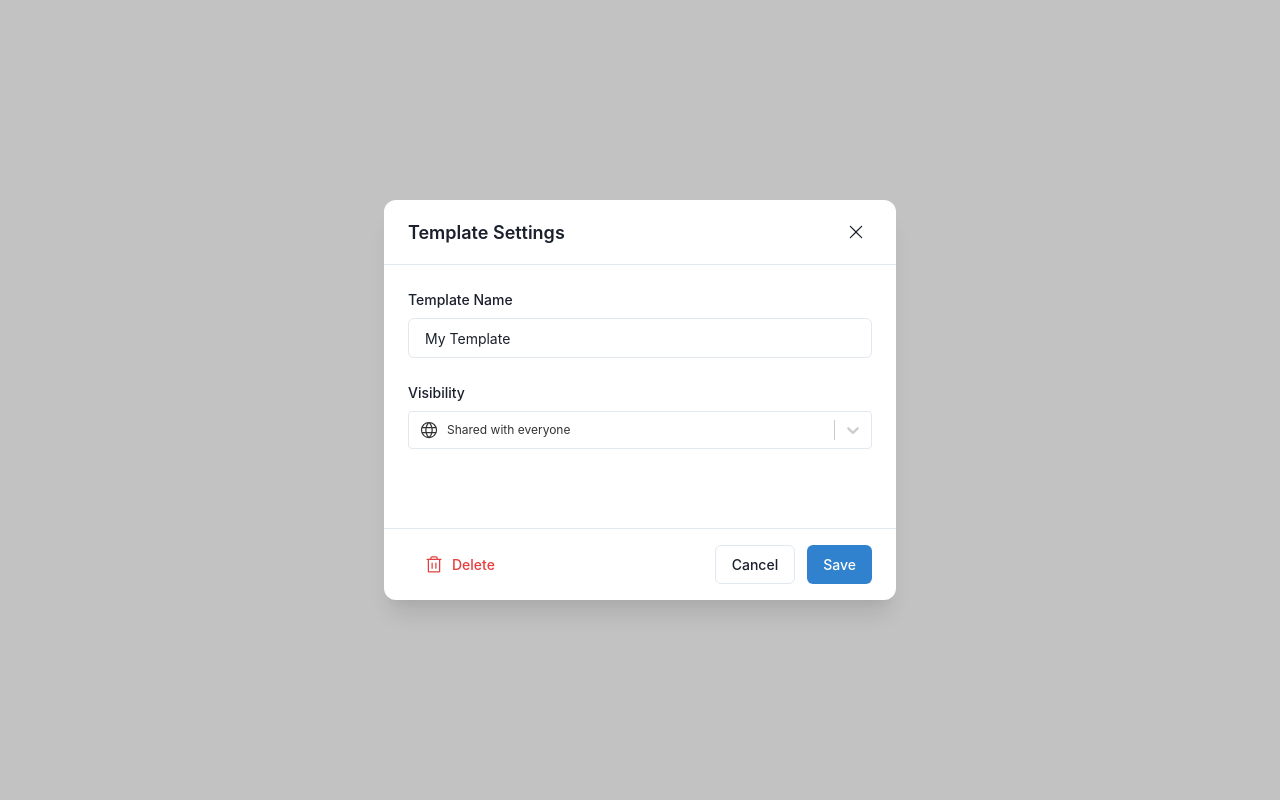
Test: SettingsModal › delete confirmation flow › shows the confirmation panel after clicking Delete
Expected: the text "Template Settings" is shown, 408,218 -> 565,246
What coordinates should you click on to do the following:
click the button "Delete"
I would click on:
 (459, 564)
Its box is 408,546 -> 511,583.
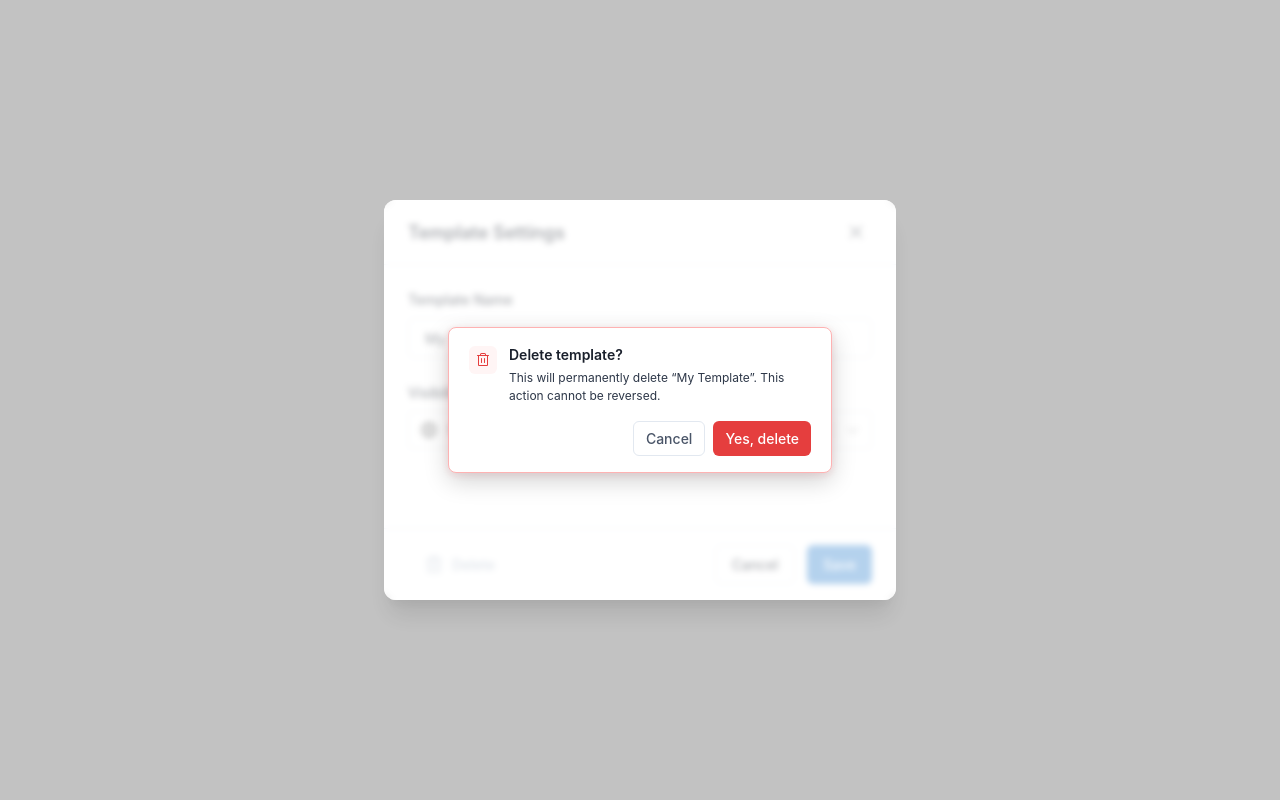
Expected: the text "Delete template?" is shown, 509,346 -> 623,363
Expected: the text "This action cannot be reversed" is shown, 509,370 -> 784,403
Expected: the button "Yes, delete" is shown, 713,421 -> 811,456
